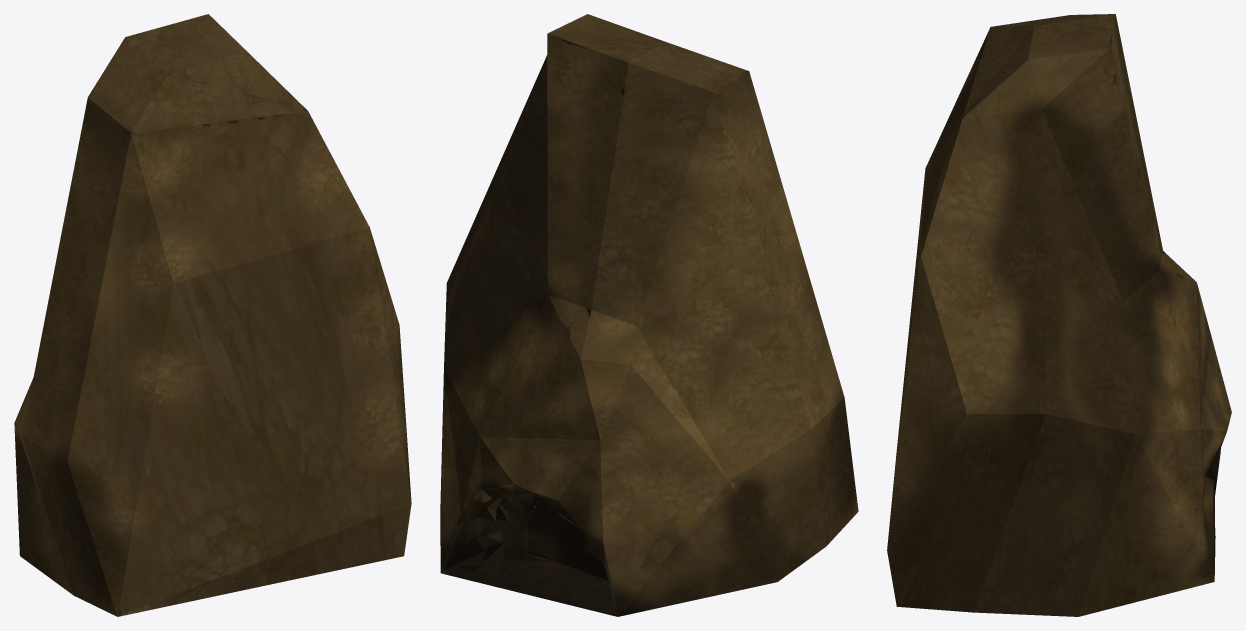
The model's file is cave.glb.
The picture shows the model from 3 angles, left to right: view 1: azimuth 30°, elevation 25°; view 2: azimuth 150°, elevation 25°; view 3: azimuth 270°, elevation 25°; orthographic projection. The views are drawn at different scales.
Visible parts, largest first — view 1: rock.045; view 2: rock.045; view 3: rock.045.
Part boxes in pixels (bbox=[...]): rock.045: bbox=[14, 14, 411, 616]; rock.045: bbox=[440, 14, 858, 616]; rock.045: bbox=[887, 14, 1231, 616].
Bounding box in the file's own units: 10.99 × 15.09 × 9.15.
Materials: 1 (1 with a texture image).
